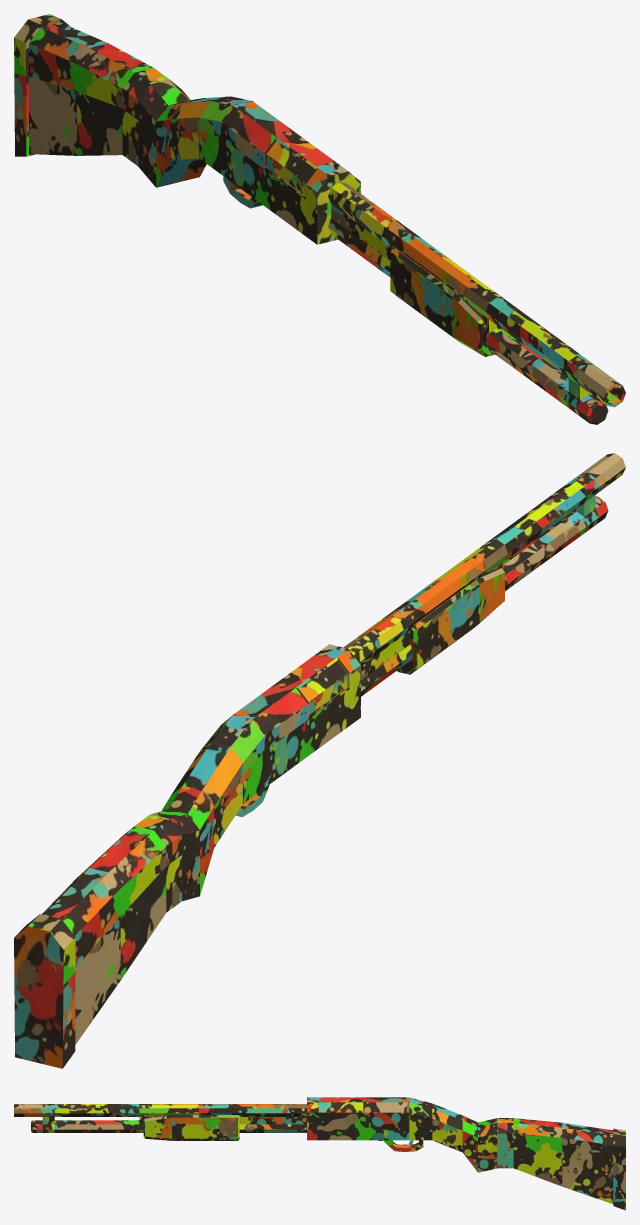
File: Meccha Chameleon Shut gun.glb
The picture shows the model from 3 angles, top to bottom: view 1: azimuth 30°, elevation 25°; view 2: azimuth 150°, elevation 25°; view 3: azimuth 270°, elevation 25°; orthographic projection. The views are drawn at different scales.
Visible parts, largest first — view 1: MS_Shotgun_Trigger_MT_Shotgun_0; view 2: MS_Shotgun_Trigger_MT_Shotgun_0; view 3: MS_Shotgun_Trigger_MT_Shotgun_0.
Boxes of the visible parts, bbox=[...] form: MS_Shotgun_Trigger_MT_Shotgun_0: bbox=[14, 14, 625, 424]; MS_Shotgun_Trigger_MT_Shotgun_0: bbox=[14, 453, 625, 1068]; MS_Shotgun_Trigger_MT_Shotgun_0: bbox=[14, 1097, 625, 1210].
Size of the model in its own units: 0.0737 by 0.2785 by 1.48.
Materials: 1 (1 with a texture image).
